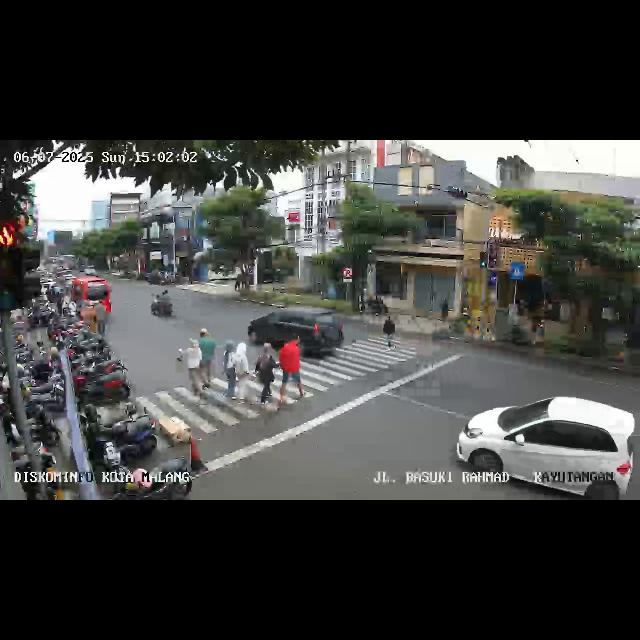car: (454, 396, 636, 499), (248, 306, 344, 359), (65, 276, 112, 326)
motorcycle: (150, 290, 177, 320)
person: (254, 340, 282, 410), (280, 332, 306, 406), (176, 338, 202, 398), (232, 342, 250, 402), (199, 327, 215, 391), (220, 342, 236, 400), (382, 314, 398, 350)
